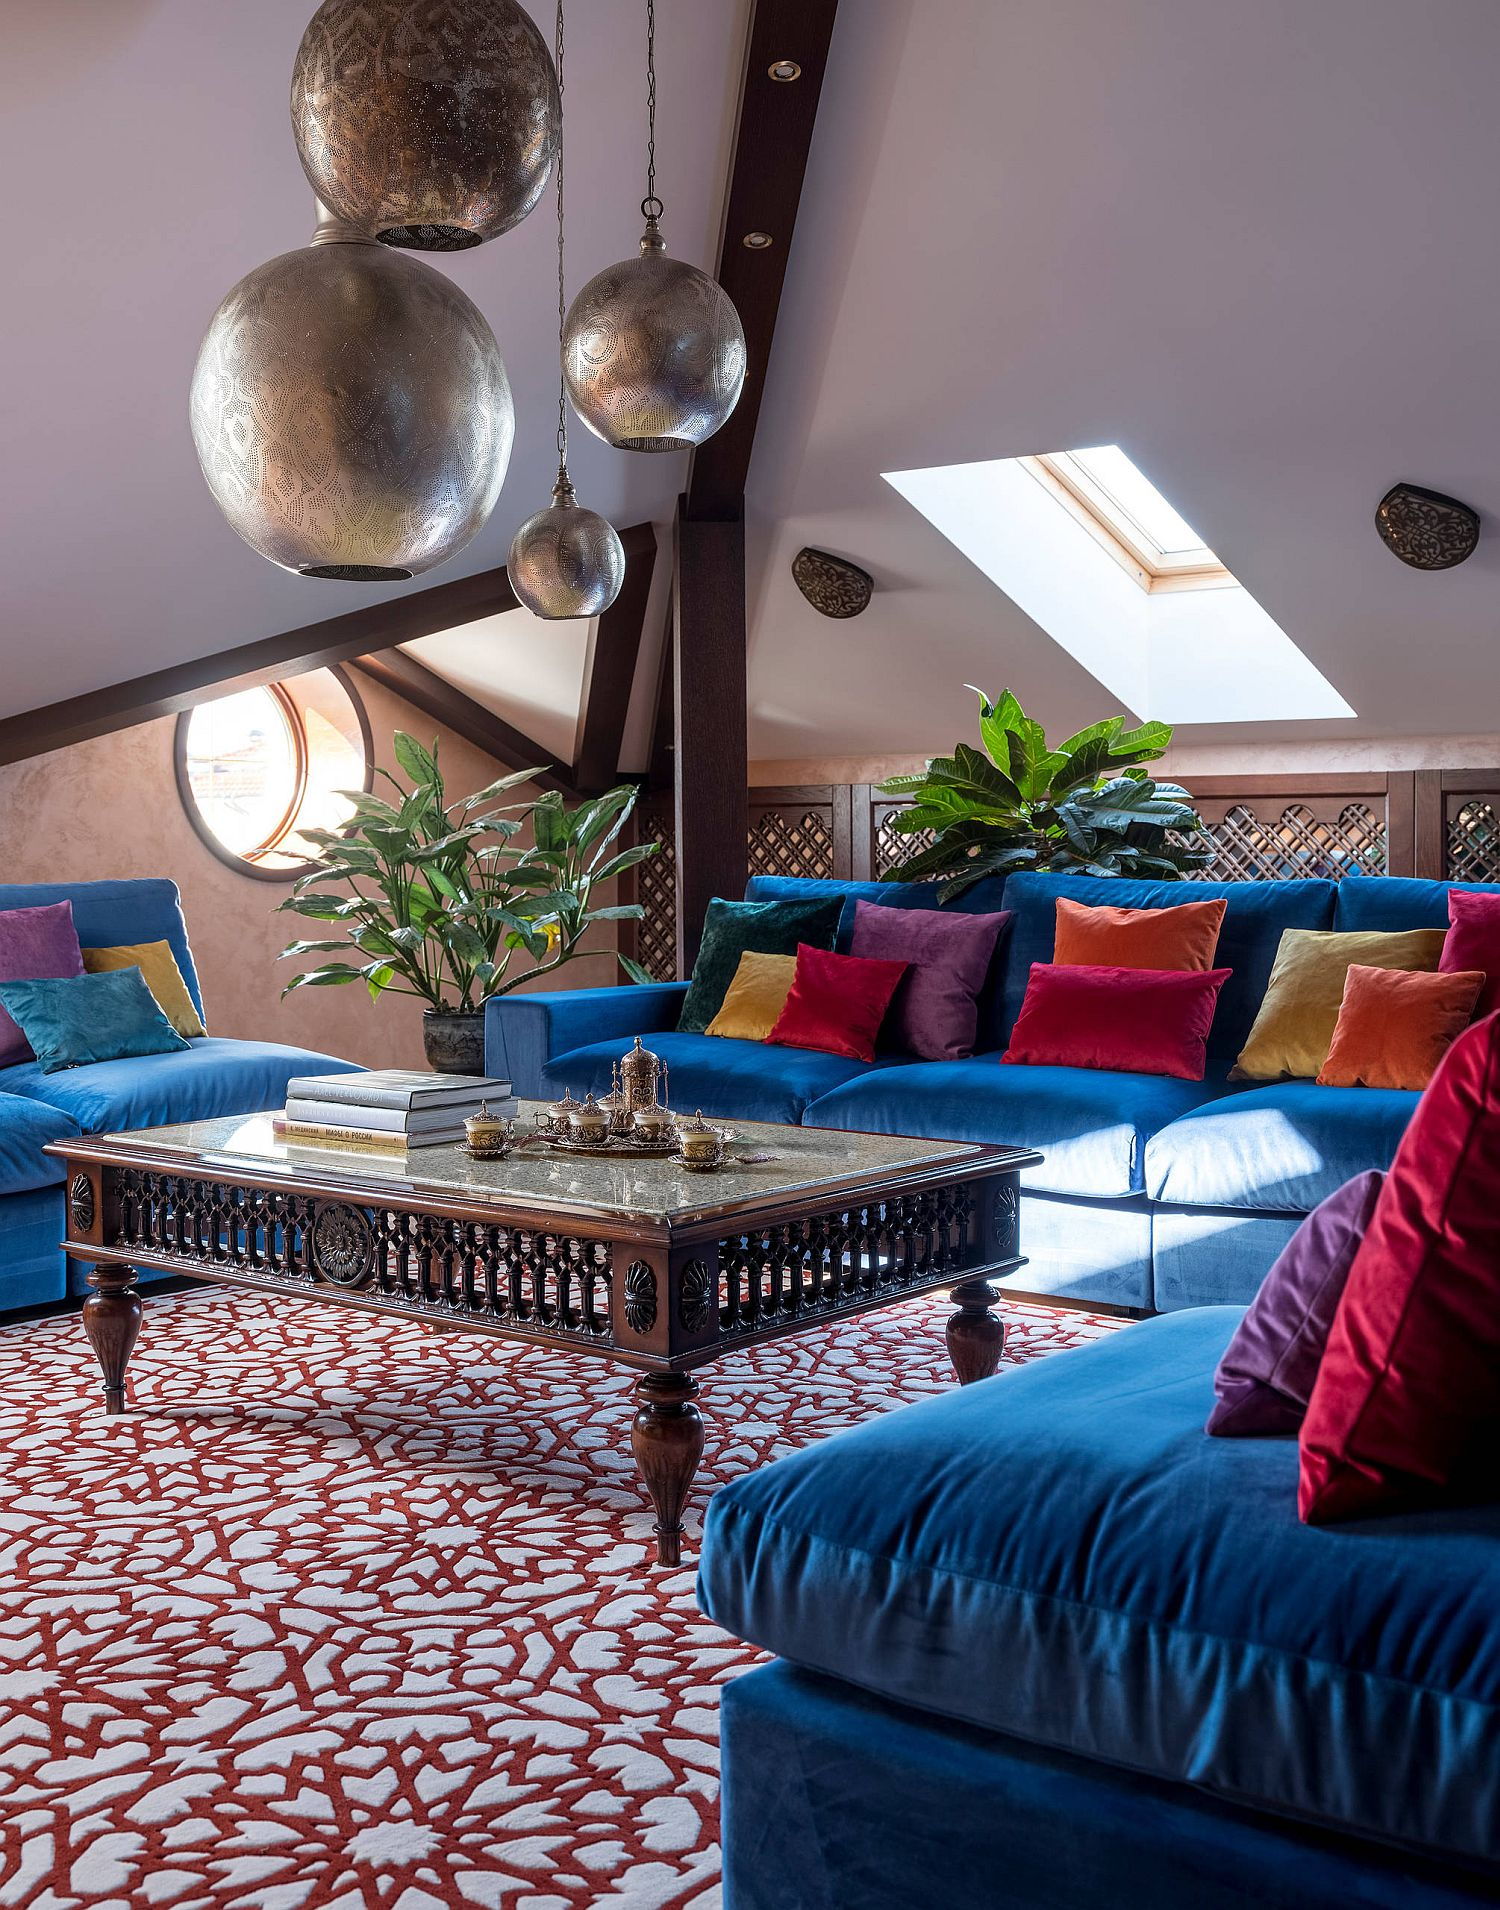biru: (710, 1299, 1500, 1905), (716, 871, 1275, 1318), (2, 877, 205, 1287), (15, 980, 174, 1056)
coklat: (53, 1139, 1027, 1302)
merah: (1368, 1015, 1500, 1493), (1007, 963, 1212, 1071), (786, 943, 891, 1067)
orange: (1046, 899, 1223, 966)
ungu: (1226, 1177, 1339, 1395), (891, 905, 979, 1060), (2, 905, 87, 983)
